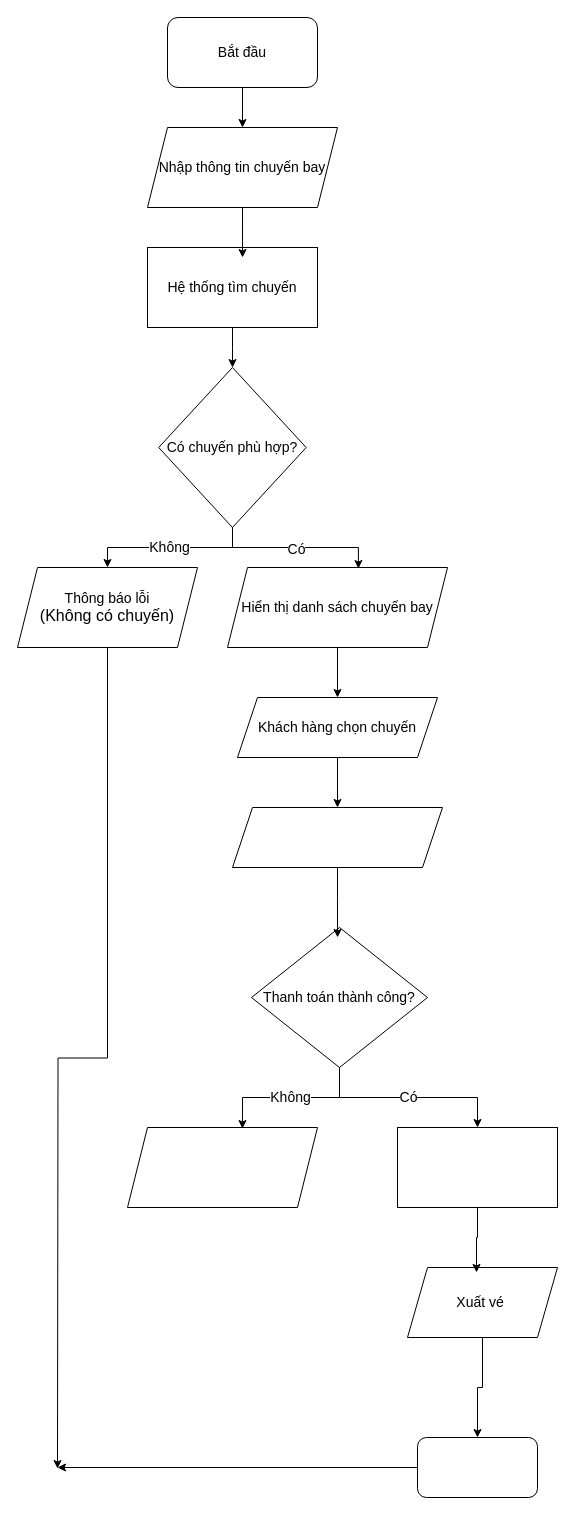
Image size: 575x1515. Some labels were removed from this diagram. Each missing label, with the box of its shape:
Kết thúc: (416, 1436, 538, 1498)
Lưu vé: (396, 1126, 558, 1208)
Nhập lại thông tin: (126, 1126, 318, 1208)
Nhập thông tin thanh toán: (232, 806, 442, 868)
